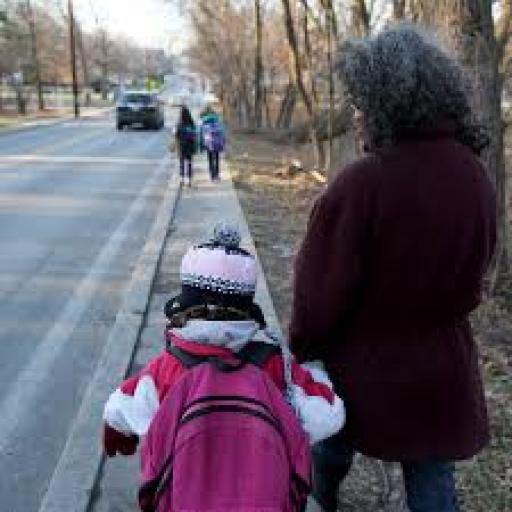door: (138, 343, 309, 512), (202, 120, 226, 152)
